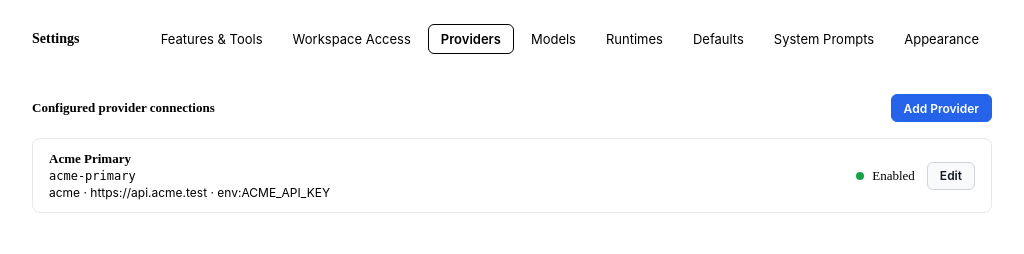
Test case: Models inventory actions › resolves the connection id to its configured display name
Click the tab "Models" at (553, 39), box top-left (518, 24), bottom-right (589, 54)
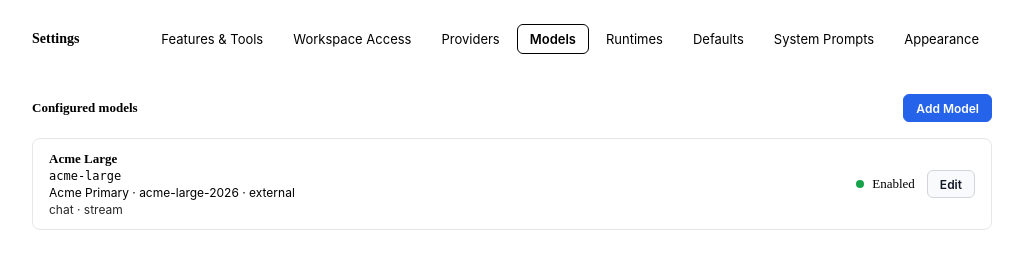
Now the text with test id "settings-inventory-entry-meta" shows "Acme Primary", box top-left (49, 185), bottom-right (295, 200)
Now the text with test id "settings-inventory-entry-meta" shows "acme-large-2026", box top-left (49, 185), bottom-right (295, 200)
Now the text with test id "settings-inventory-entry-id" reads "acme-large", box top-left (49, 169), bottom-right (121, 183)
